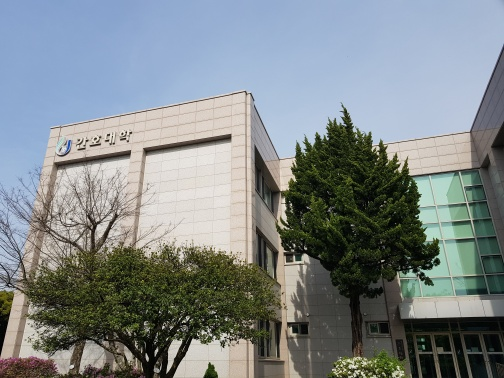College of Nursing: (38, 84, 493, 367), (52, 124, 139, 159)
